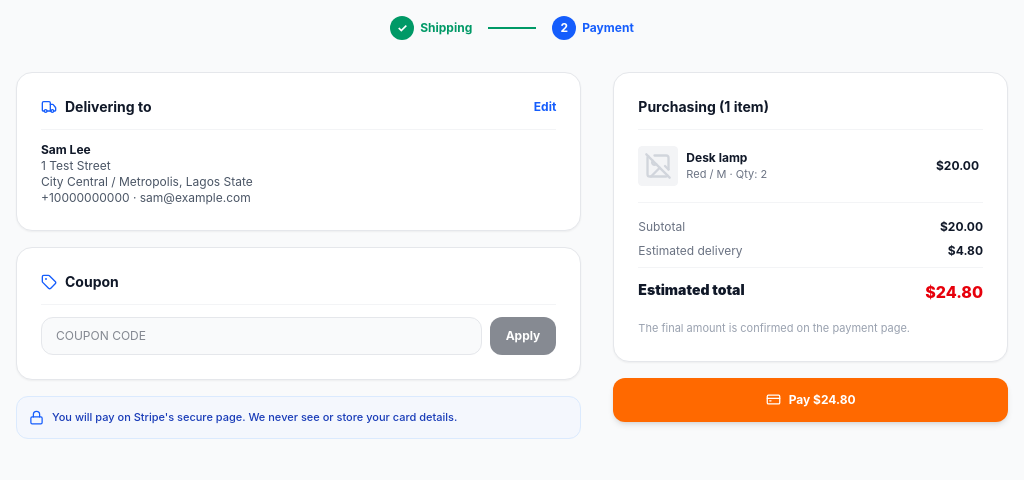
Scenario: Checkout page › coupon › shows a friendly message when the check itself fails
Type "X1X" into the field labelled "Coupon code" at (261,336), box top-left (41, 317), bottom-right (482, 355)
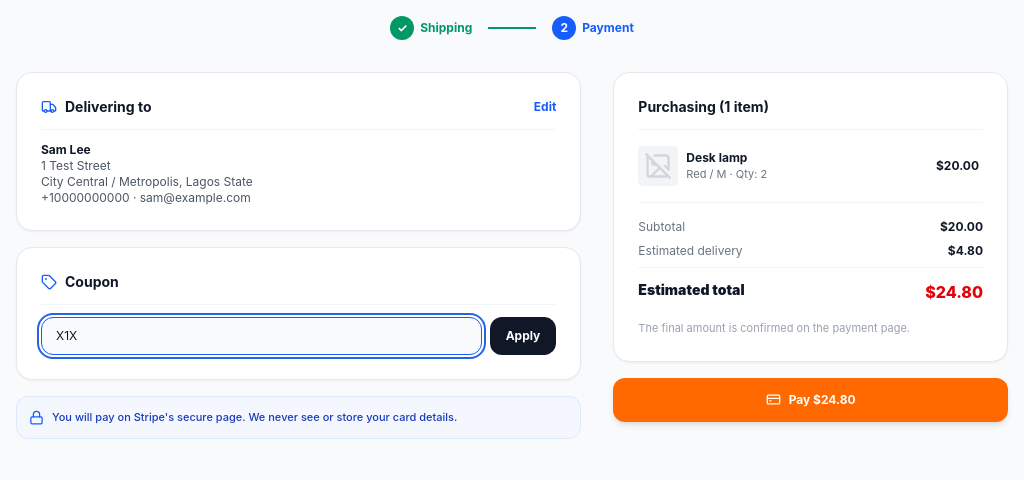
Click the button "Apply" at (523,336), box top-left (490, 317), bottom-right (556, 355)
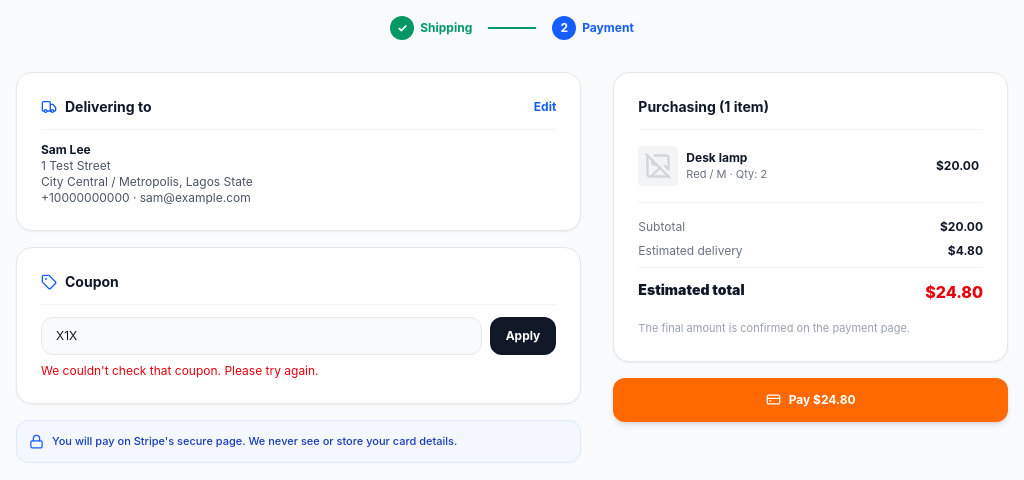
Result: the message shows "We couldn't check that coupon" at top-left (41, 363), bottom-right (319, 378)
